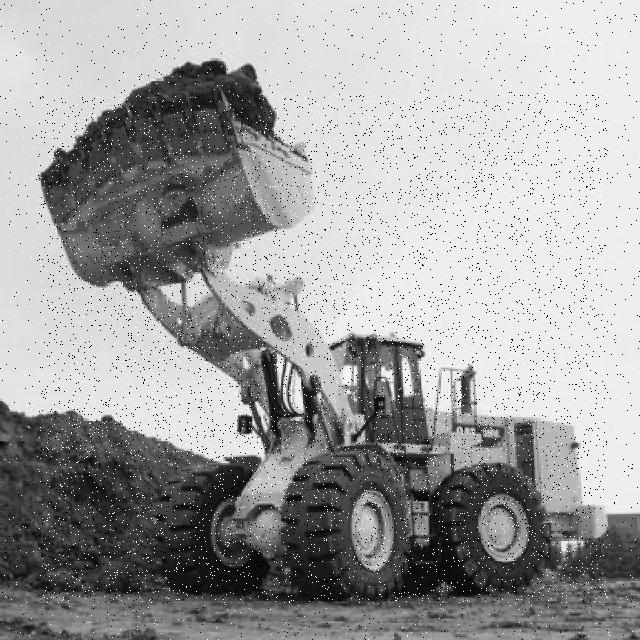Construction Equipment: (39, 95, 608, 603)
